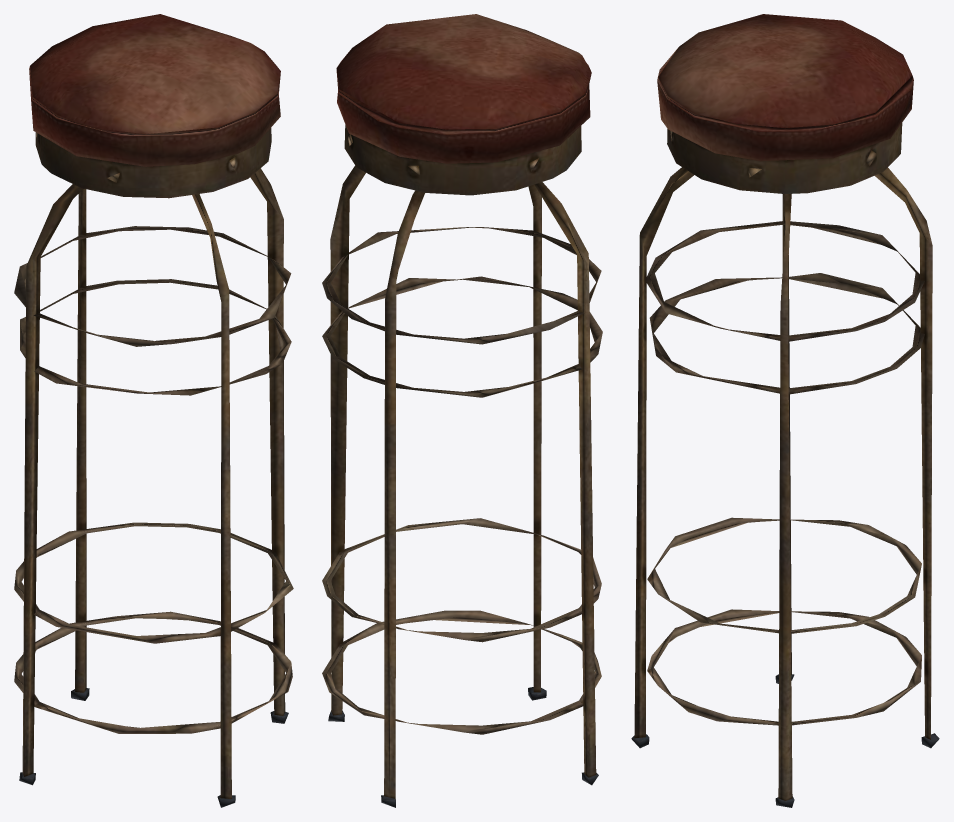
Rendered from metal_stool.glb.
The picture shows the model from 3 angles, left to right: view 1: azimuth 30°, elevation 25°; view 2: azimuth 150°, elevation 25°; view 3: azimuth 270°, elevation 25°; orthographic projection.
Visible parts, largest first — view 1: metal_stool_01; view 2: metal_stool_01; view 3: metal_stool_01.
Part boxes in pixels (bbox=[...]): metal_stool_01: bbox=[14, 14, 293, 807]; metal_stool_01: bbox=[322, 14, 602, 807]; metal_stool_01: bbox=[631, 14, 939, 807].
Size of the model in its own units: 0.3505 by 0.8796 by 0.353.
1 material, 1 textured.
